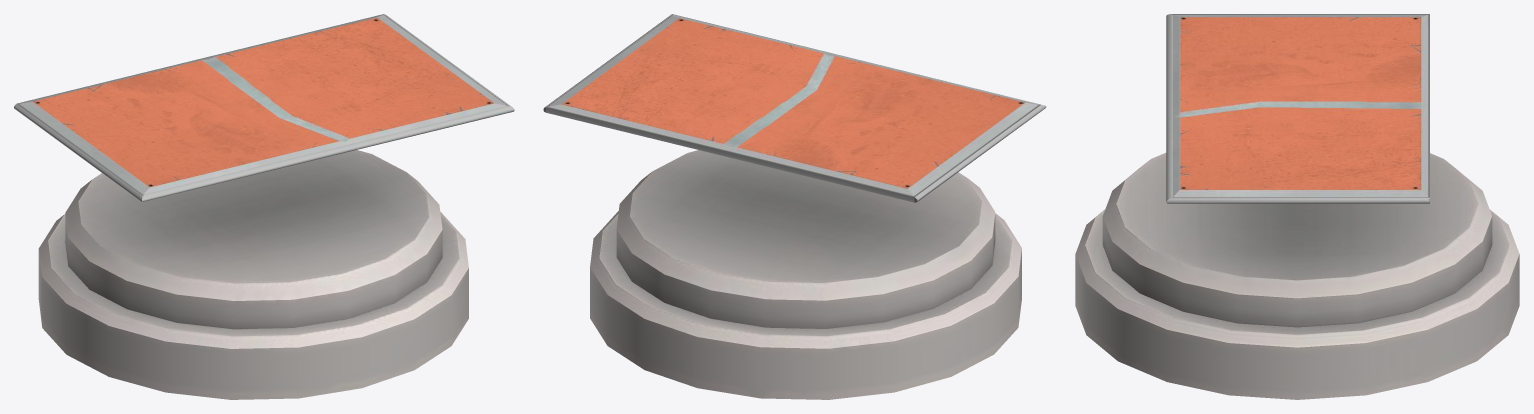
File: PLATPRATA.fbx
The picture shows the model from 3 angles, left to right: view 1: azimuth 30°, elevation 25°; view 2: azimuth 150°, elevation 25°; view 3: azimuth 270°, elevation 25°; orthographic projection. The views are drawn at different scales.
Visible parts, largest first — view 1: polySurface59, polySurface54; view 2: polySurface59, polySurface54; view 3: polySurface59, polySurface54.
Boxes of the visible parts, x1=… form: polySurface59: x1=38, y1=150, x2=468, y2=399; polySurface54: x1=14, y1=14, x2=514, y2=201; polySurface59: x1=590, y1=150, x2=1021, y2=399; polySurface54: x1=543, y1=14, x2=1046, y2=202; polySurface59: x1=1075, y1=152, x2=1519, y2=399; polySurface54: x1=1166, y1=14, x2=1429, y2=203.
Size of the model in its own units: 0.4897 by 0.2469 by 0.4773.
Materials: 1 (1 with a texture image).
